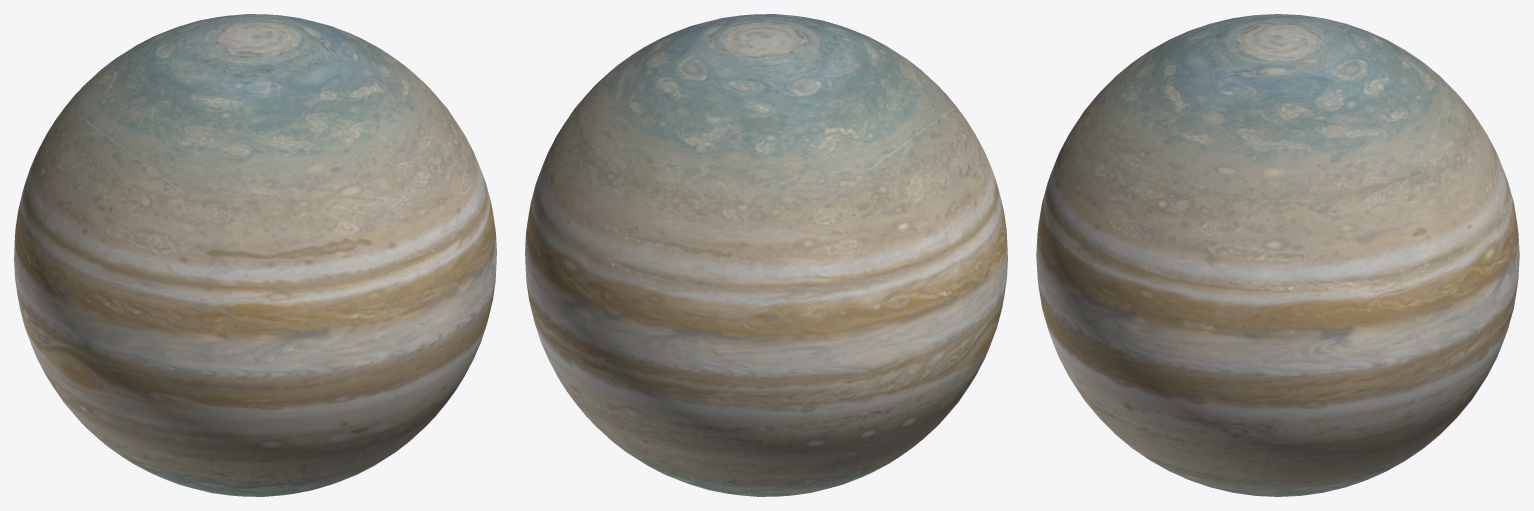
Rendered from JupiterModel.obj.
3 renders of one model, left to right at view 1: azimuth 30°, elevation 25°; view 2: azimuth 150°, elevation 25°; view 3: azimuth 270°, elevation 25°, orthographic.
Visible parts, largest first — view 1: obj1; view 2: obj1; view 3: obj1.
Part boxes in pixels (x1,y1,x2,y2): obj1: (14,14,496,496); obj1: (525,14,1007,496); obj1: (1036,14,1519,496).
Size of the model in its own units: 1 by 1 by 1.
